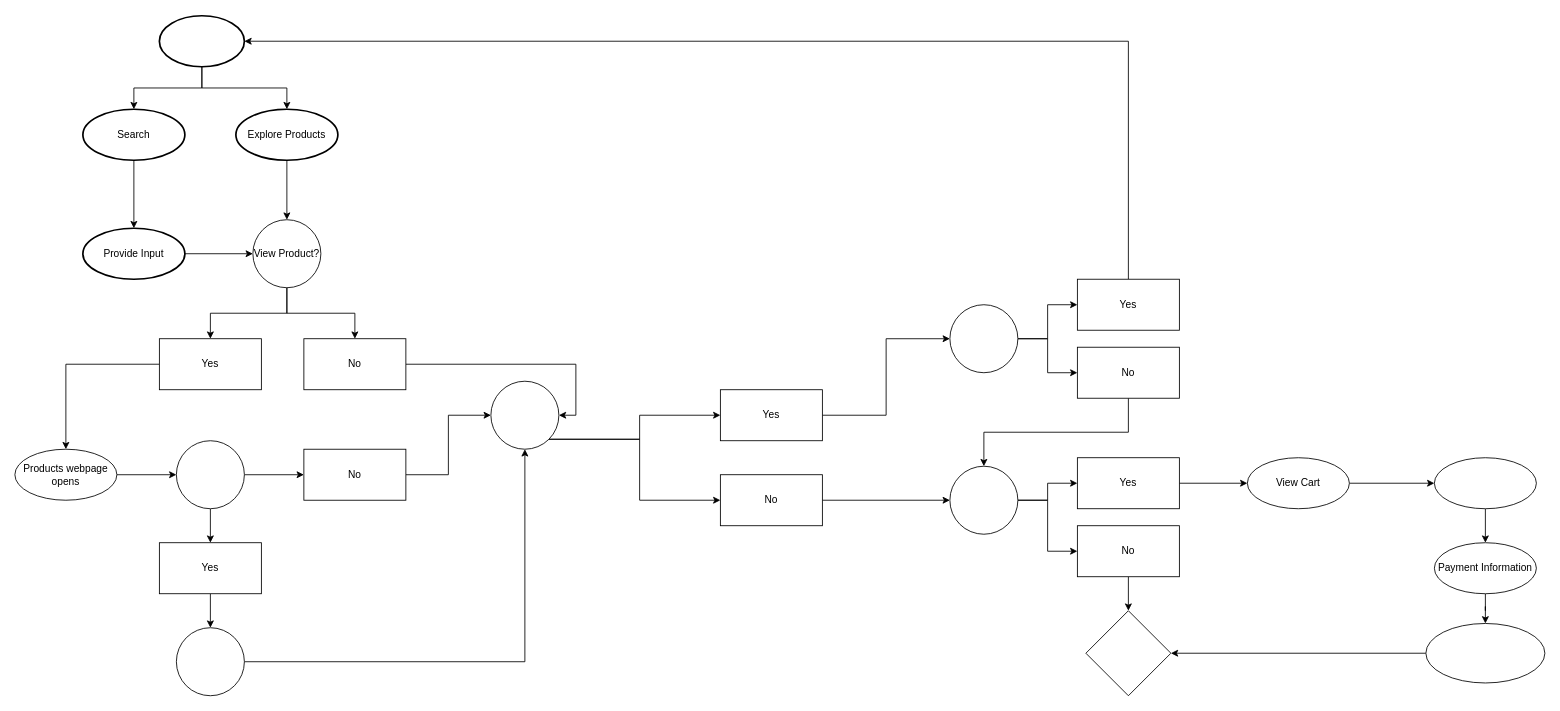
The diagram is 1560 pixels wide and 711 high, and some of its shapes have lost their labels. Each missing label, with the centre of its shape:
"Add to Cart?" goes at point (210, 474).
"Checkout?" goes at point (983, 499).
"Confirmation" goes at point (210, 661).
"Continue Shopping" goes at point (524, 414).
"leave website" goes at point (1128, 653).
"Order Confirmation & email" goes at point (1485, 653).
"Search for a new product?" goes at point (983, 338).
"Start at homepage" goes at point (201, 40).
"View Payment" goes at point (1485, 483).
